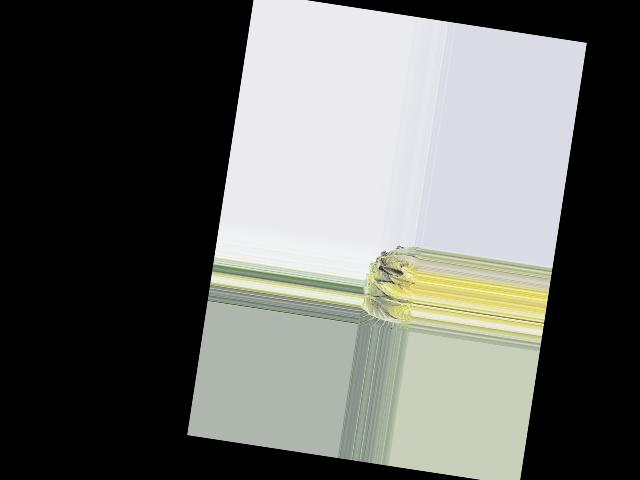lettuce: (359, 243, 422, 331)
